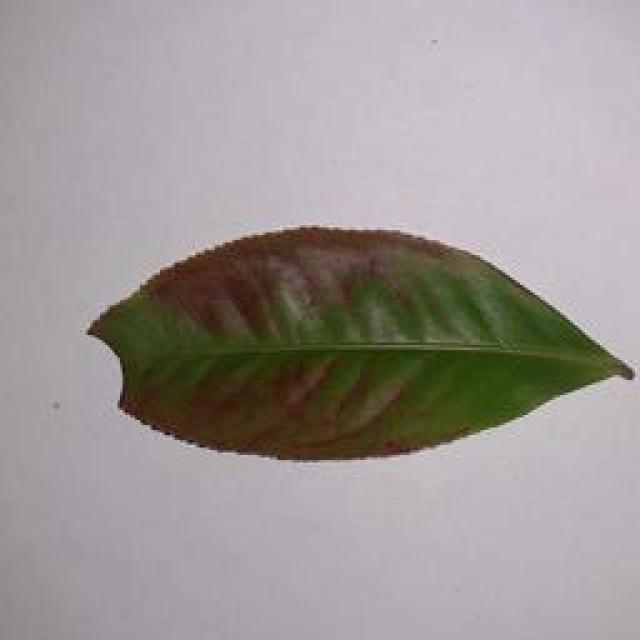Red Leaf Spot: (95, 220, 629, 464)
